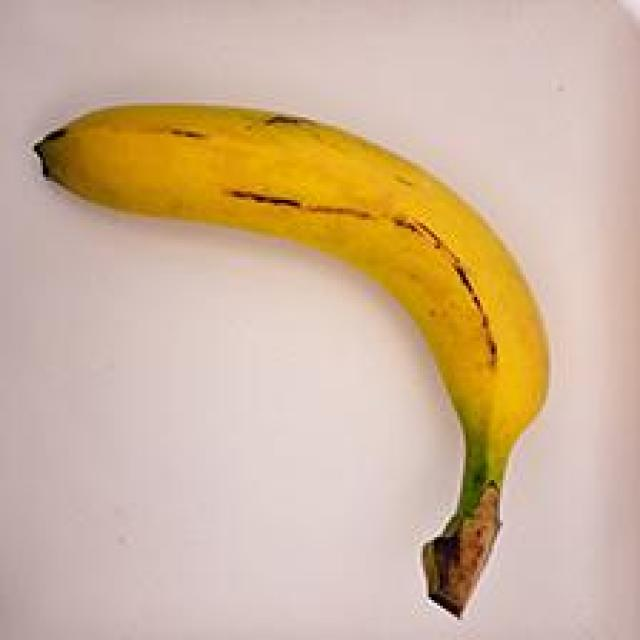ripe: (27, 63, 573, 621)
